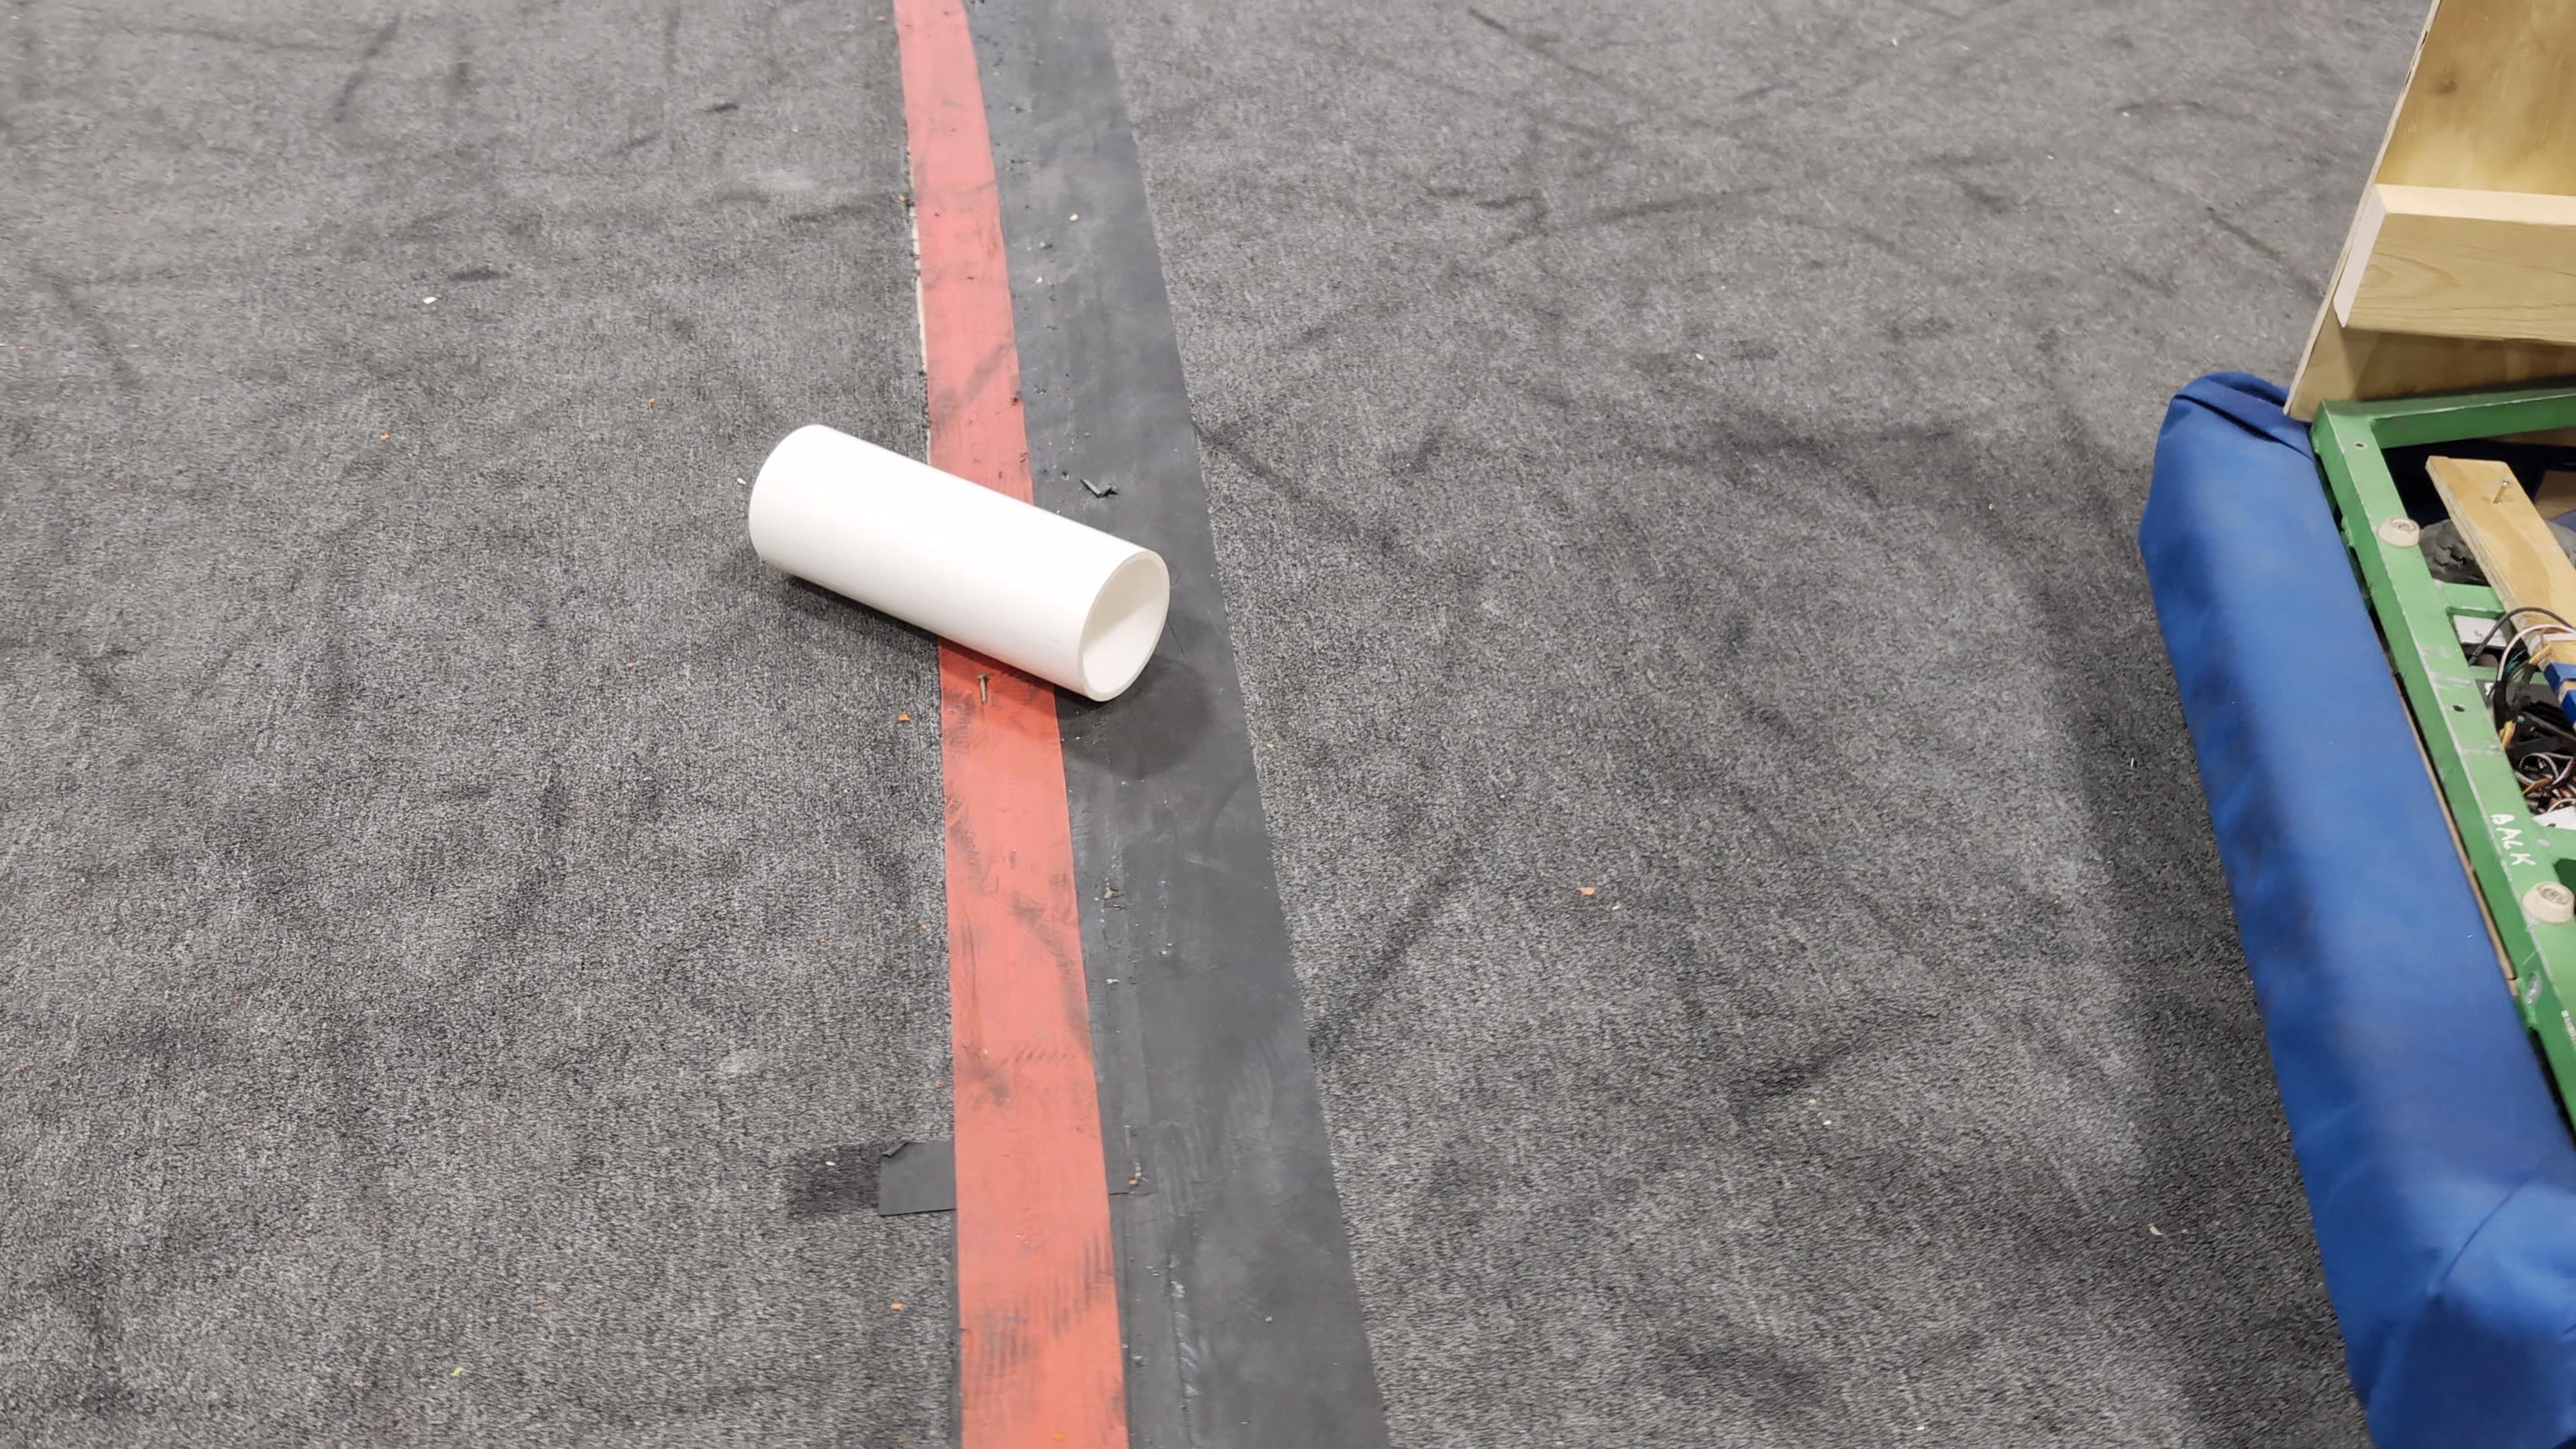coral: (747, 419, 1173, 704)
